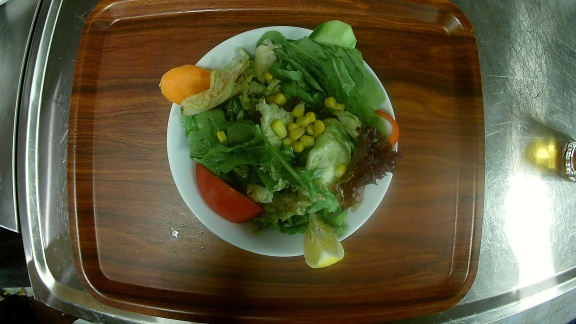salata: (165, 23, 401, 265)
